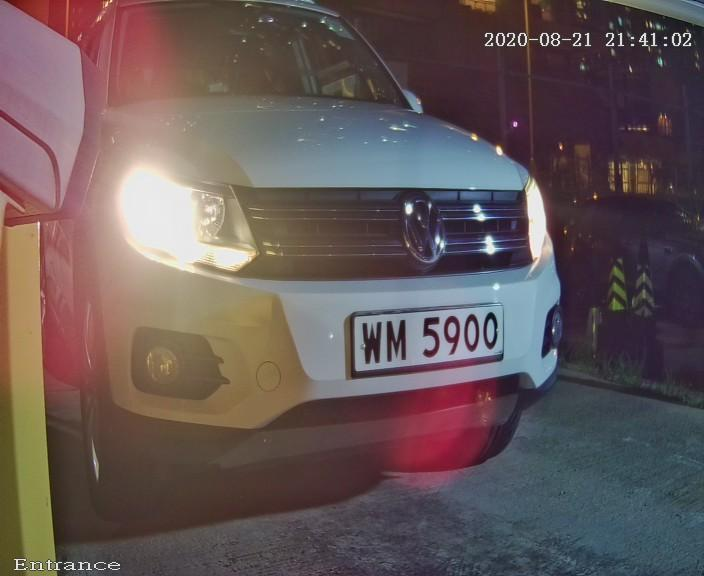License Plate: (321, 291, 519, 386)
